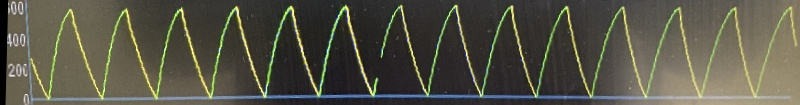normal_volume: (40, 0, 788, 104)
